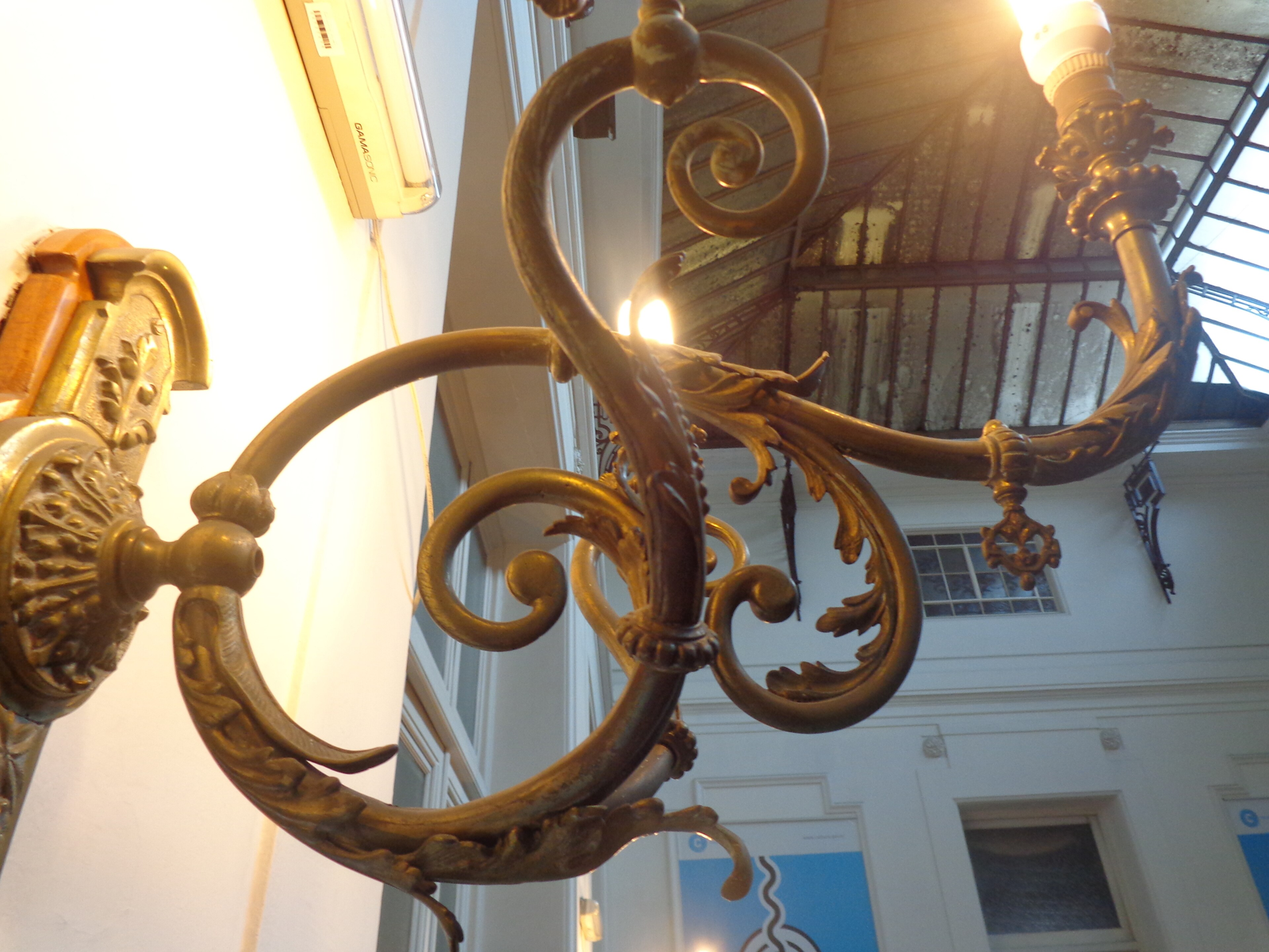fachada: (3, 5, 650, 952), (582, 428, 1269, 952)
